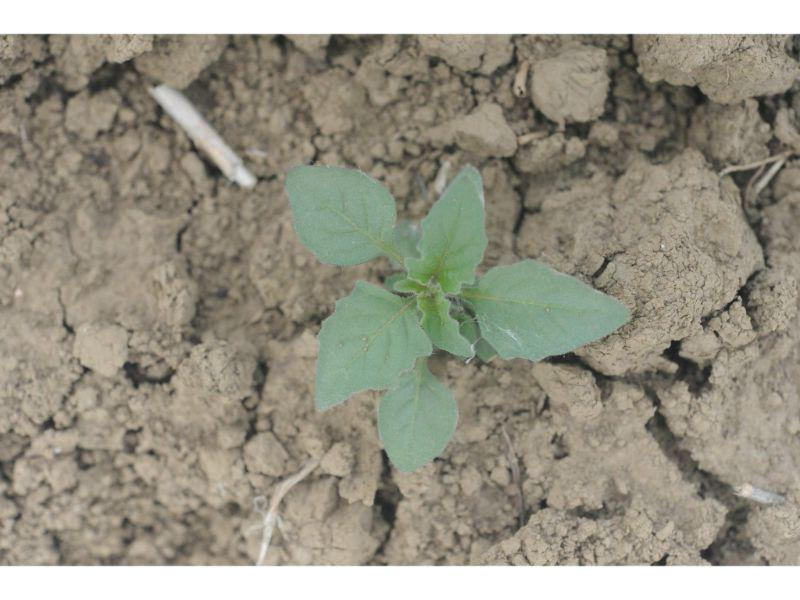nightshade: (284, 162, 629, 476)
